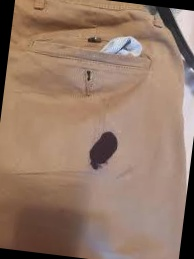ink: (87, 127, 121, 170)
